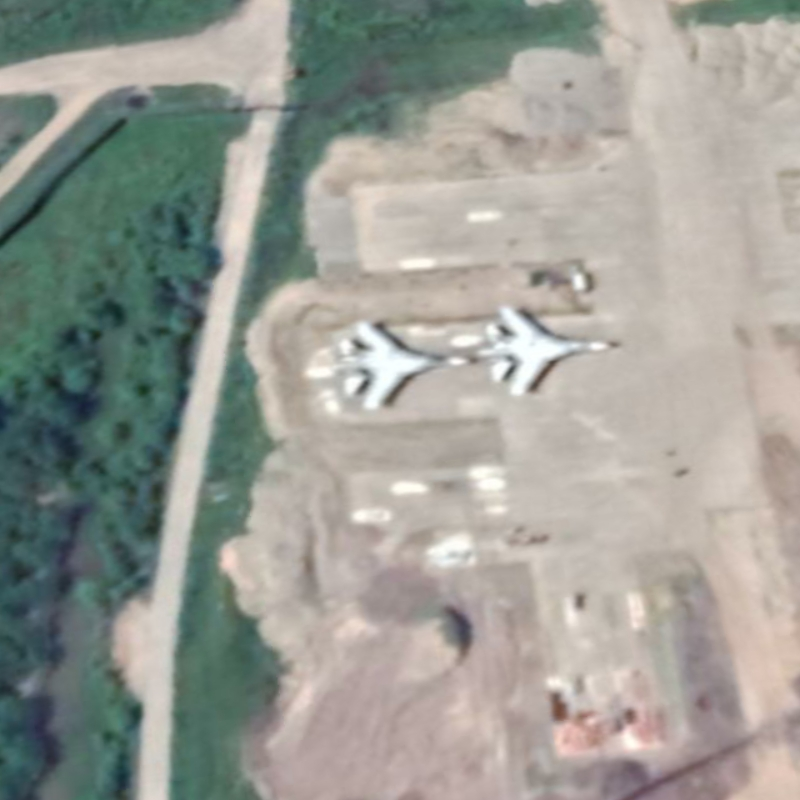A1: (477, 302, 620, 399), (330, 316, 476, 411)
